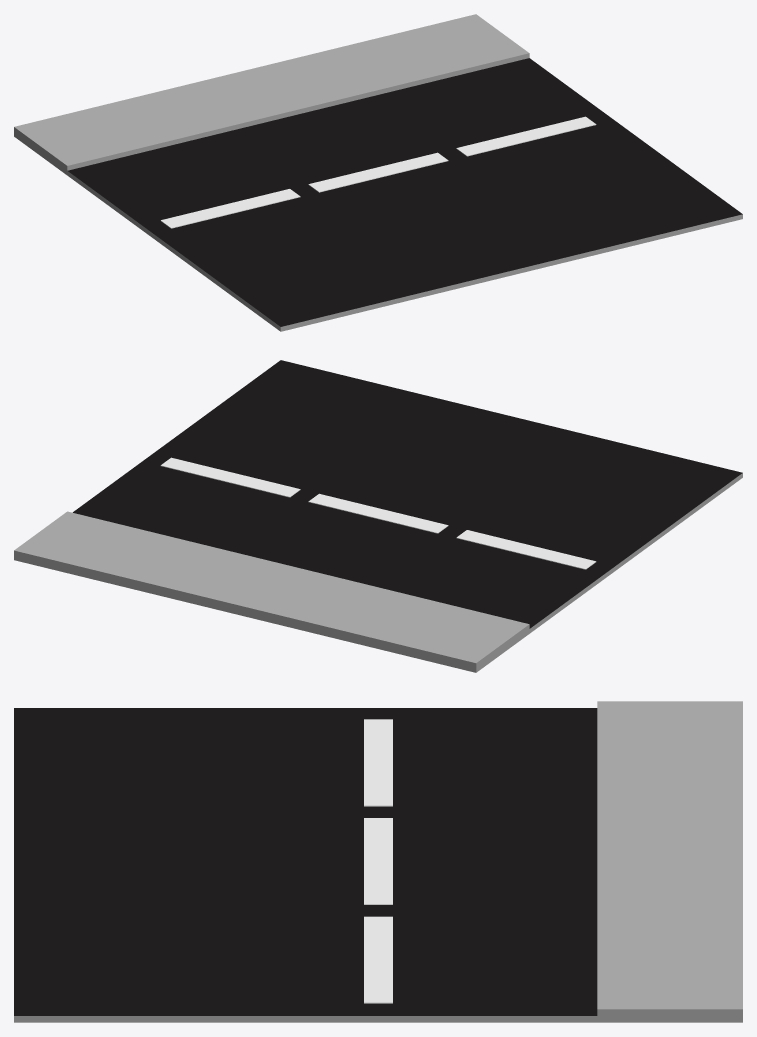
Rendered from Env_Road_Side_01.fbx.
3 renders of one model, top to bottom at view 1: azimuth 30°, elevation 25°; view 2: azimuth 150°, elevation 25°; view 3: azimuth 270°, elevation 25°, orthographic. The views are drawn at different scales.
Parts seen in each view (by area): view 1: Env_Road_Side_01; view 2: Env_Road_Side_01; view 3: Env_Road_Side_01.
Boxes of the visible parts, x1,y1,x2,y2 form: Env_Road_Side_01: (14,14,742,331); Env_Road_Side_01: (14,360,742,672); Env_Road_Side_01: (14,701,742,1022).
Bounding box in the file's own units: 1000 × 20 × 1000.
